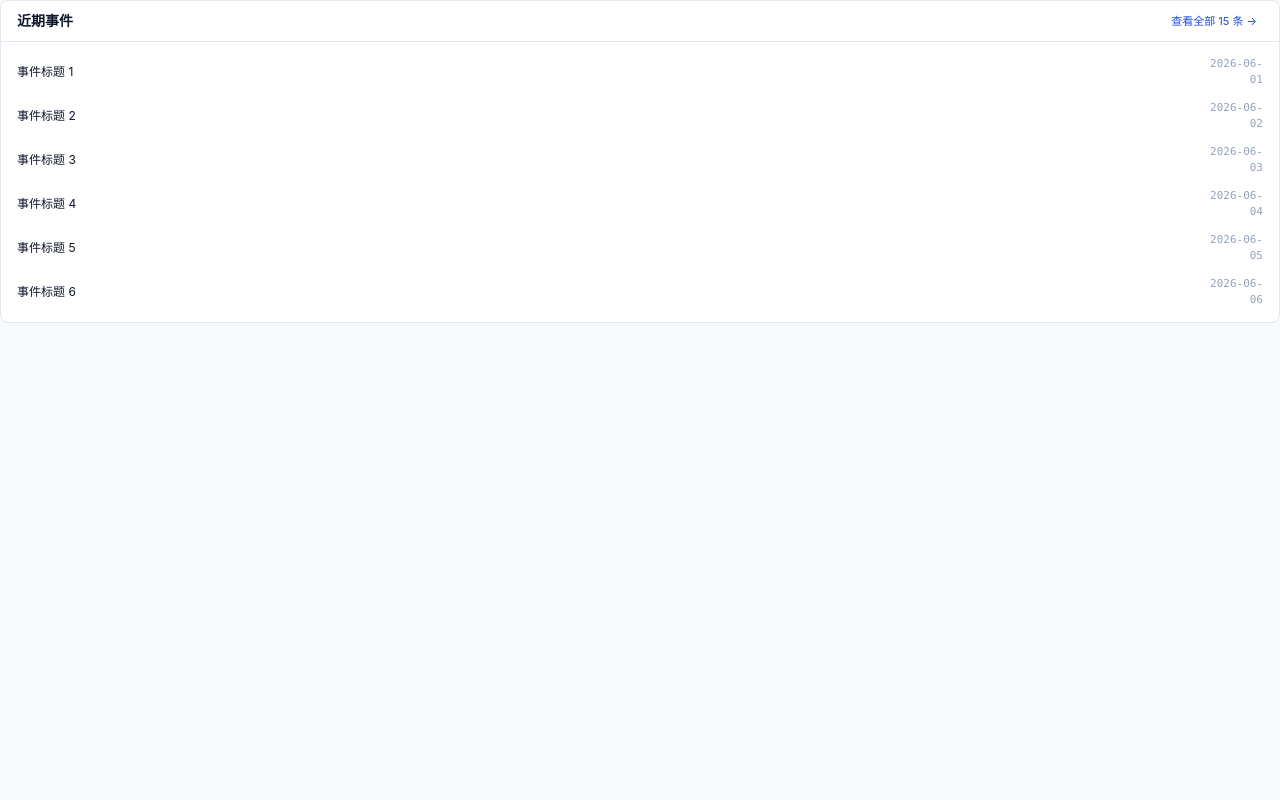
Scenario: 摘要卡：展示 6 条并撑满 › 头部「查看全部」打开抽屉，能看到第 7 条之后的事件
Expected: the text "事件标题 7" is not shown
Click the button "查看全部 15 条 →" at coordinates (1214, 21), box [1165,11,1263,31]
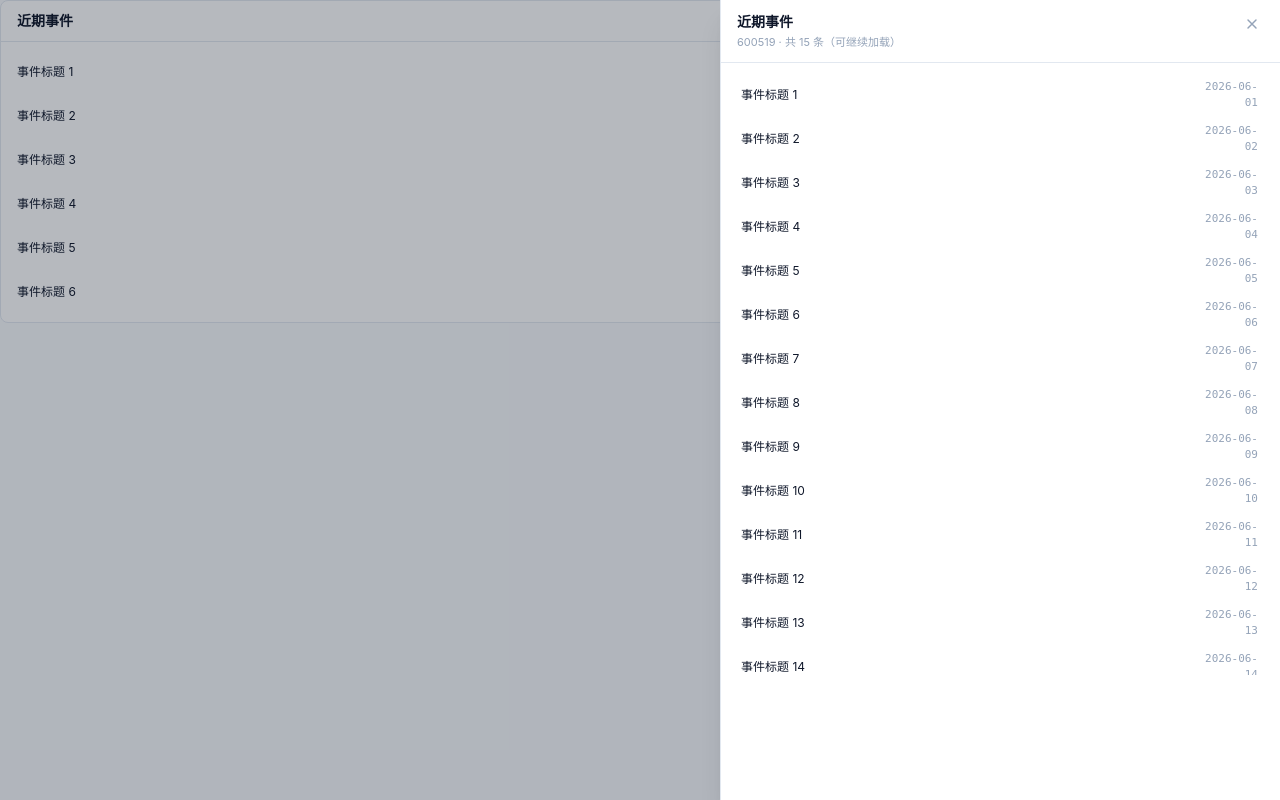
Expected: the list with test id "events-scroll" is shown, [737,75,1264,675]
Expected: the button "事件标题 7" is shown, [741,351,1186,367]
